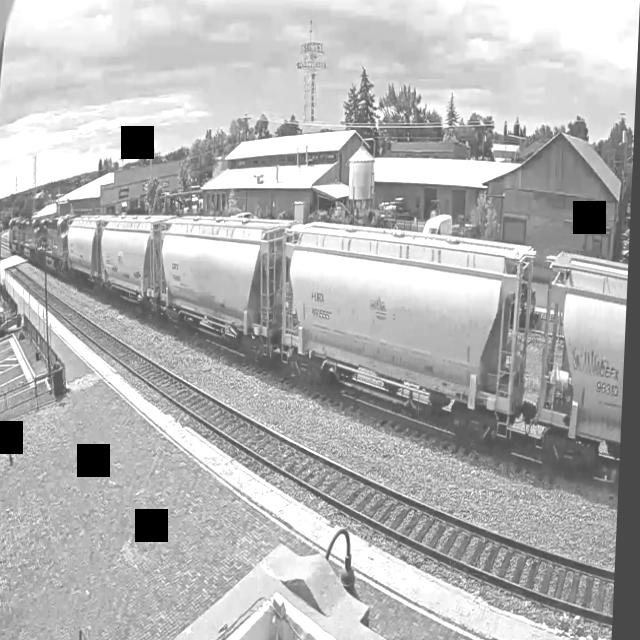hopper: (274, 216, 542, 460), (532, 238, 631, 488), (156, 209, 287, 365)
